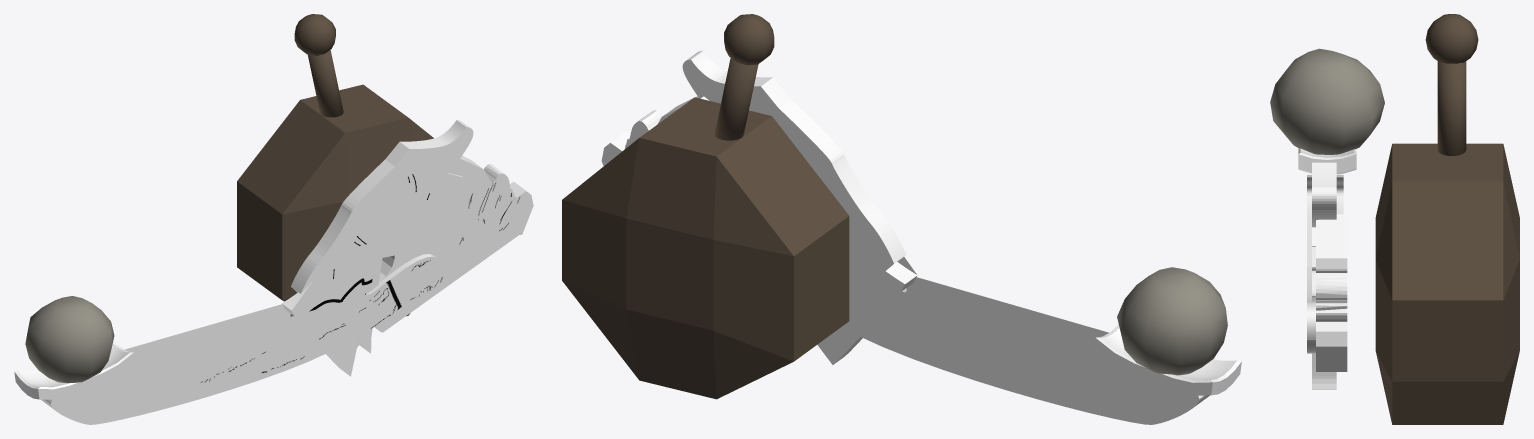
The model's file is turret_1_3.fbx.
3 views of the same model, side by side, from view 1: azimuth 30°, elevation 25°; view 2: azimuth 150°, elevation 25°; view 3: azimuth 270°, elevation 25° (orthographic). The views are drawn at different scales.
Parts seen in each view (by area): view 1: base.001, skull_catapult, skull_head, skull_neck, rock.019; view 2: base.001, skull_catapult, skull_head, rock.019, skull_neck; view 3: base.001, rock.019, skull_neck, skull_catapult, skull_head.
Part boxes in pixels (bbox=[...]): base.001: bbox=[237, 14, 433, 316]; skull_catapult: bbox=[14, 254, 440, 424]; skull_head: bbox=[282, 120, 473, 376]; skull_neck: bbox=[374, 155, 533, 332]; rock.019: bbox=[25, 296, 114, 383]; base.001: bbox=[562, 14, 849, 399]; skull_catapult: bbox=[841, 276, 1241, 424]; skull_head: bbox=[682, 50, 917, 364]; rock.019: bbox=[1117, 267, 1227, 375]; skull_neck: bbox=[601, 96, 709, 165]; base.001: bbox=[1375, 14, 1519, 424]; rock.019: bbox=[1270, 48, 1384, 154]; skull_neck: bbox=[1316, 214, 1347, 371]; skull_catapult: bbox=[1298, 148, 1356, 353]; skull_head: bbox=[1312, 162, 1336, 389].
Size of the model in its own units: 130 by 77.73 by 45.58.
